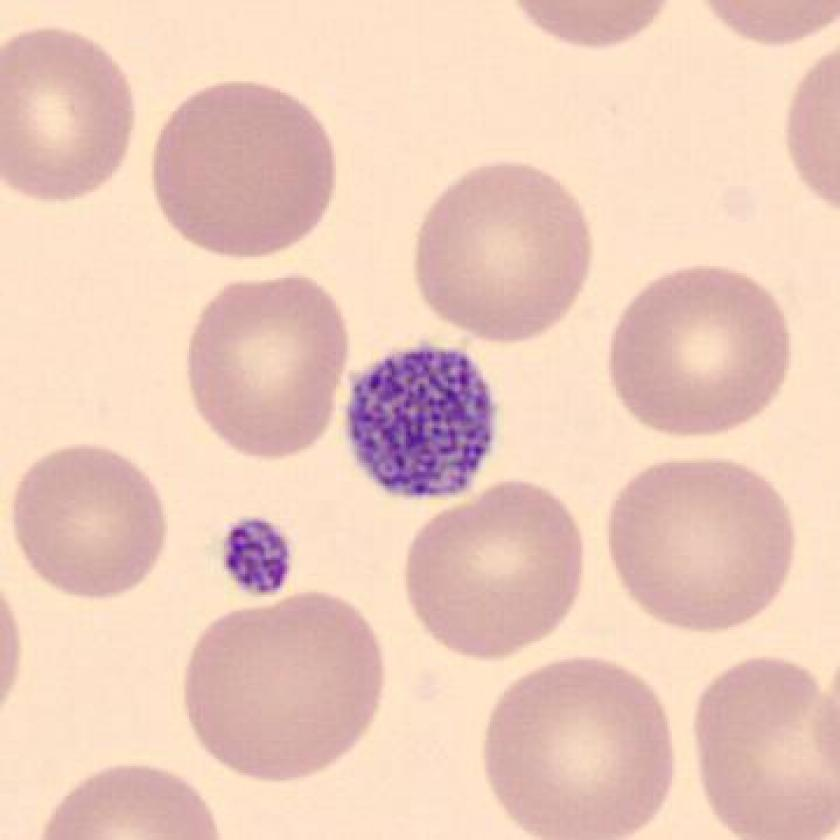platelets: (330, 332, 517, 512), (209, 510, 309, 610)
